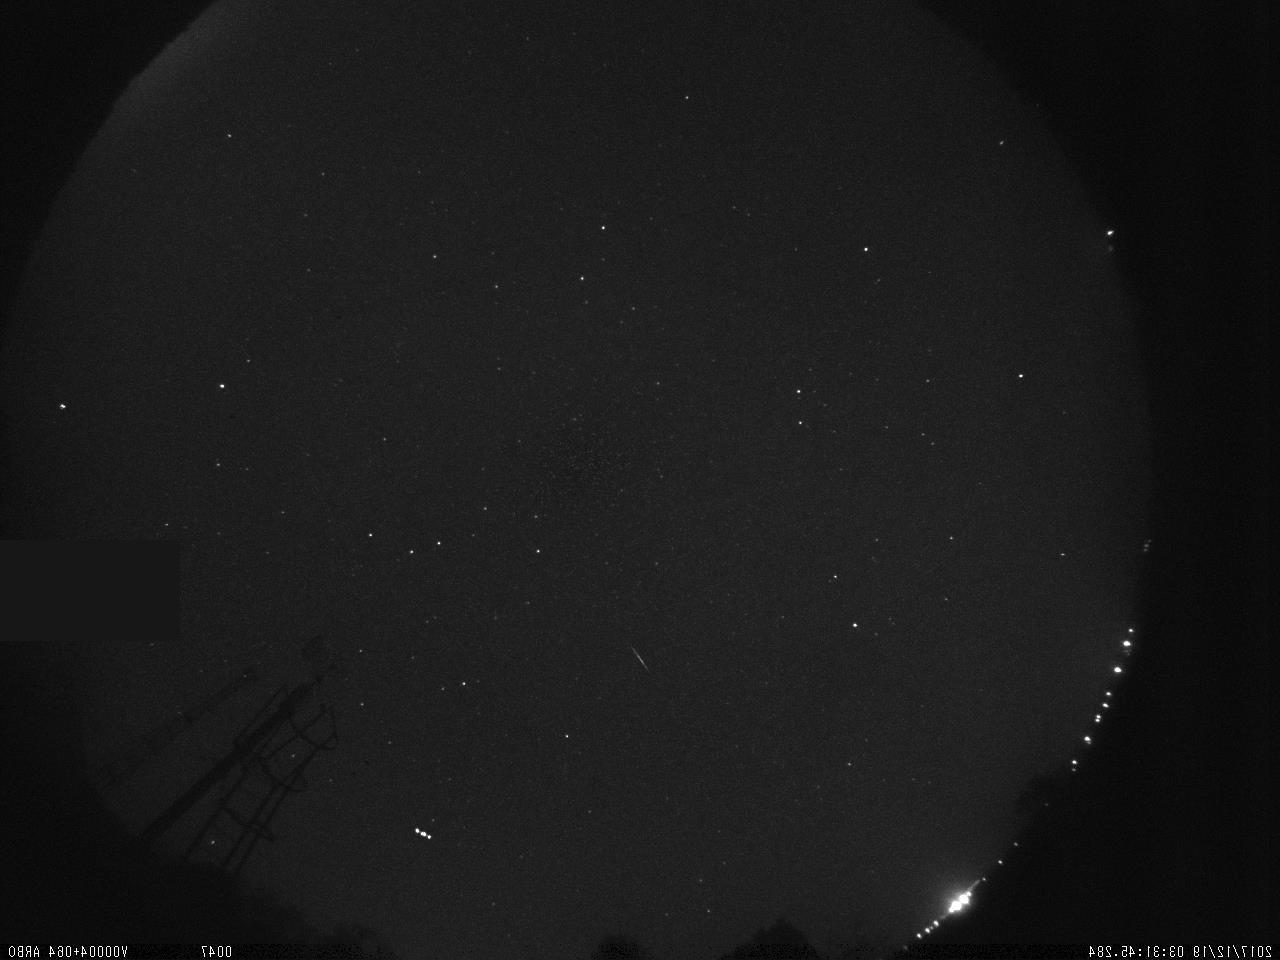meteor: (625, 631, 654, 679)
